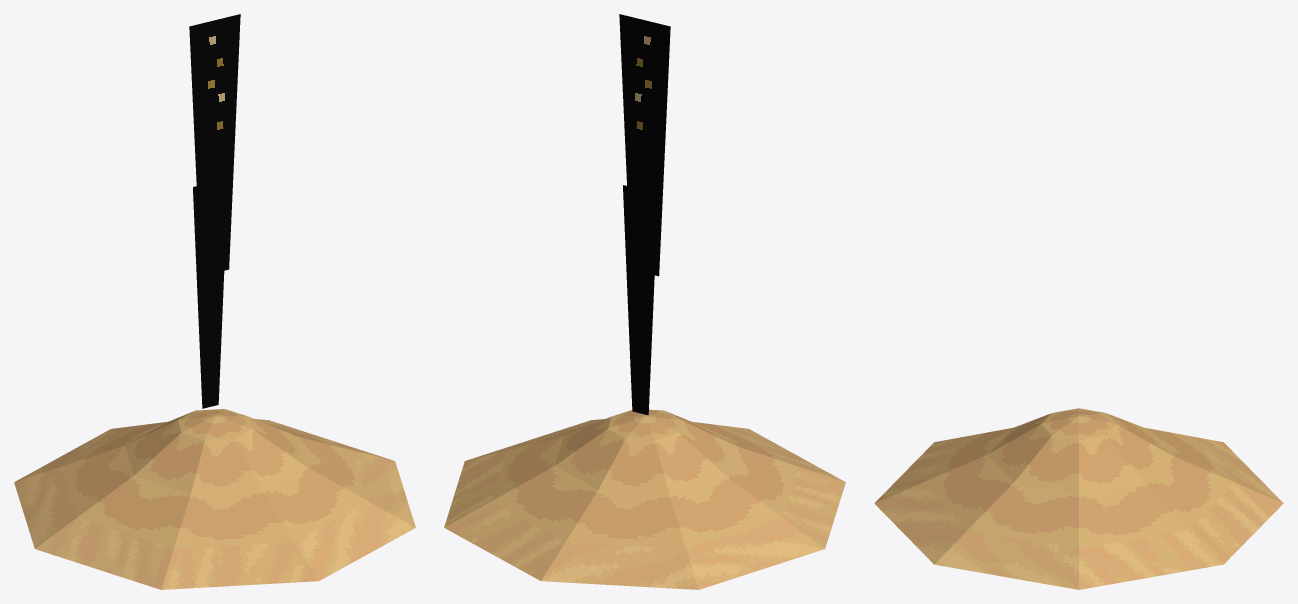
3 views of the same model, side by side, from view 1: azimuth 30°, elevation 25°; view 2: azimuth 150°, elevation 25°; view 3: azimuth 270°, elevation 25° (orthographic).
Visible parts, largest first — view 1: polygon0, polygon1, polygon2, polygon3; view 2: polygon0, polygon1, polygon2, polygon3; view 3: polygon0, polygon1.
Boxes of the visible parts, bbox=[...] form: polygon0: bbox=[61, 409, 368, 548]; polygon1: bbox=[14, 419, 415, 589]; polygon2: bbox=[189, 14, 240, 276]; polygon3: bbox=[193, 186, 224, 408]; polygon0: bbox=[491, 409, 798, 548]; polygon1: bbox=[444, 419, 845, 589]; polygon2: bbox=[619, 14, 670, 276]; polygon3: bbox=[623, 185, 657, 415]; polygon0: bbox=[922, 408, 1235, 548]; polygon1: bbox=[874, 436, 1283, 589].
Bounding box in the file's own units: 5.1 × 6.56 × 5.1.
Materials: 4 (4 with a texture image).
